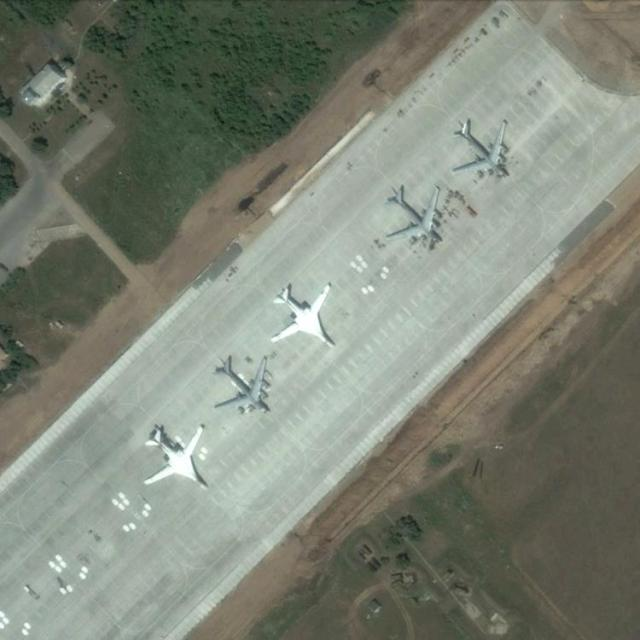fighter jet: (447, 106, 514, 190), (372, 185, 452, 250), (269, 286, 344, 354), (211, 350, 275, 423), (141, 430, 214, 492)
